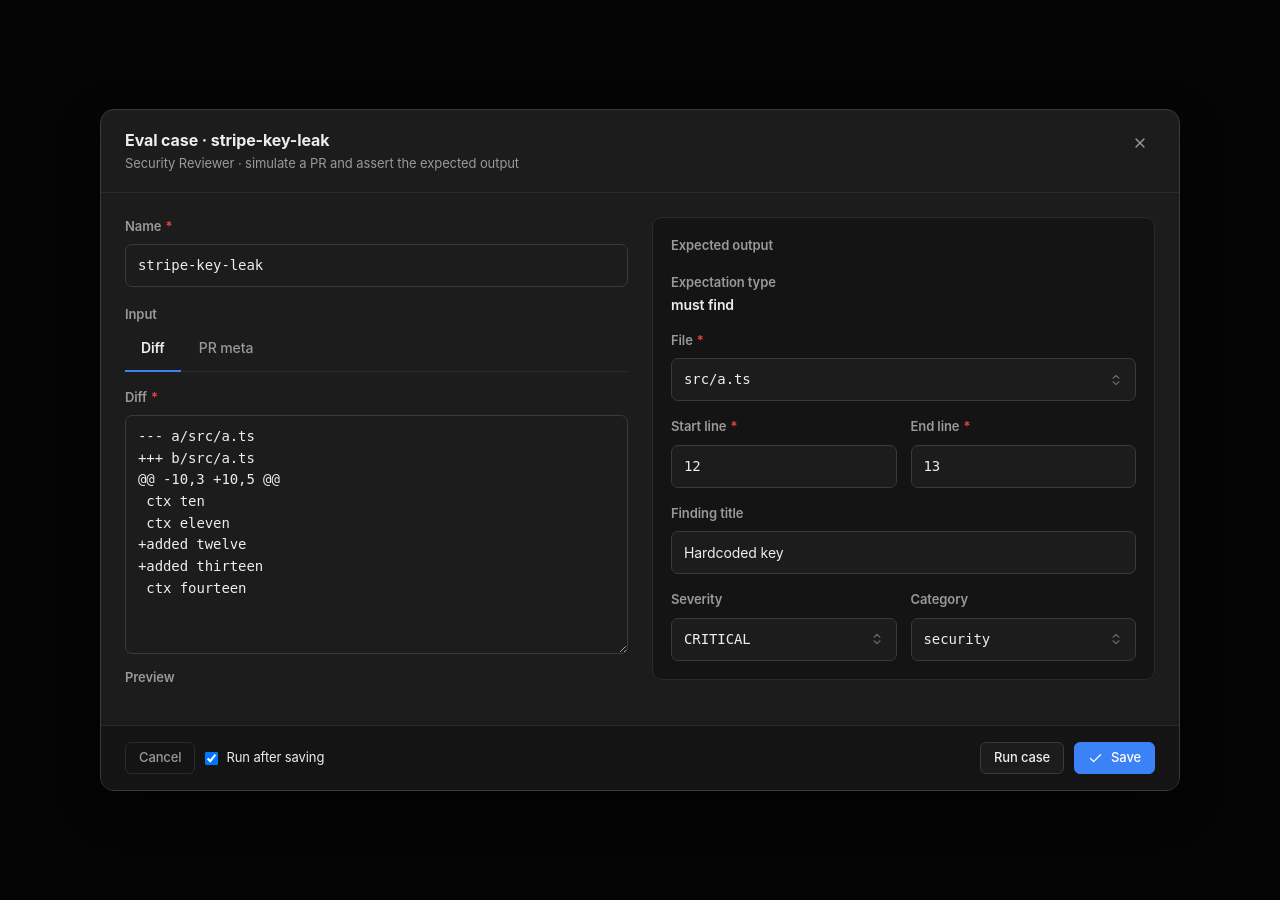
CaseEditorDialog — open › opens an existing case with every field holding its value
The width and height of the screenshot is (1280, 900).
Check: the text "Eval case · stripe-key-leak" is shown, box [125,130,330,150]
Check: the field labelled "Name*" holds "stripe-key-leak", box [138,255,615,276]
Step 1. Click the button "PR meta" → {"x": 226, "y": 348}, box [183,324,269,372]
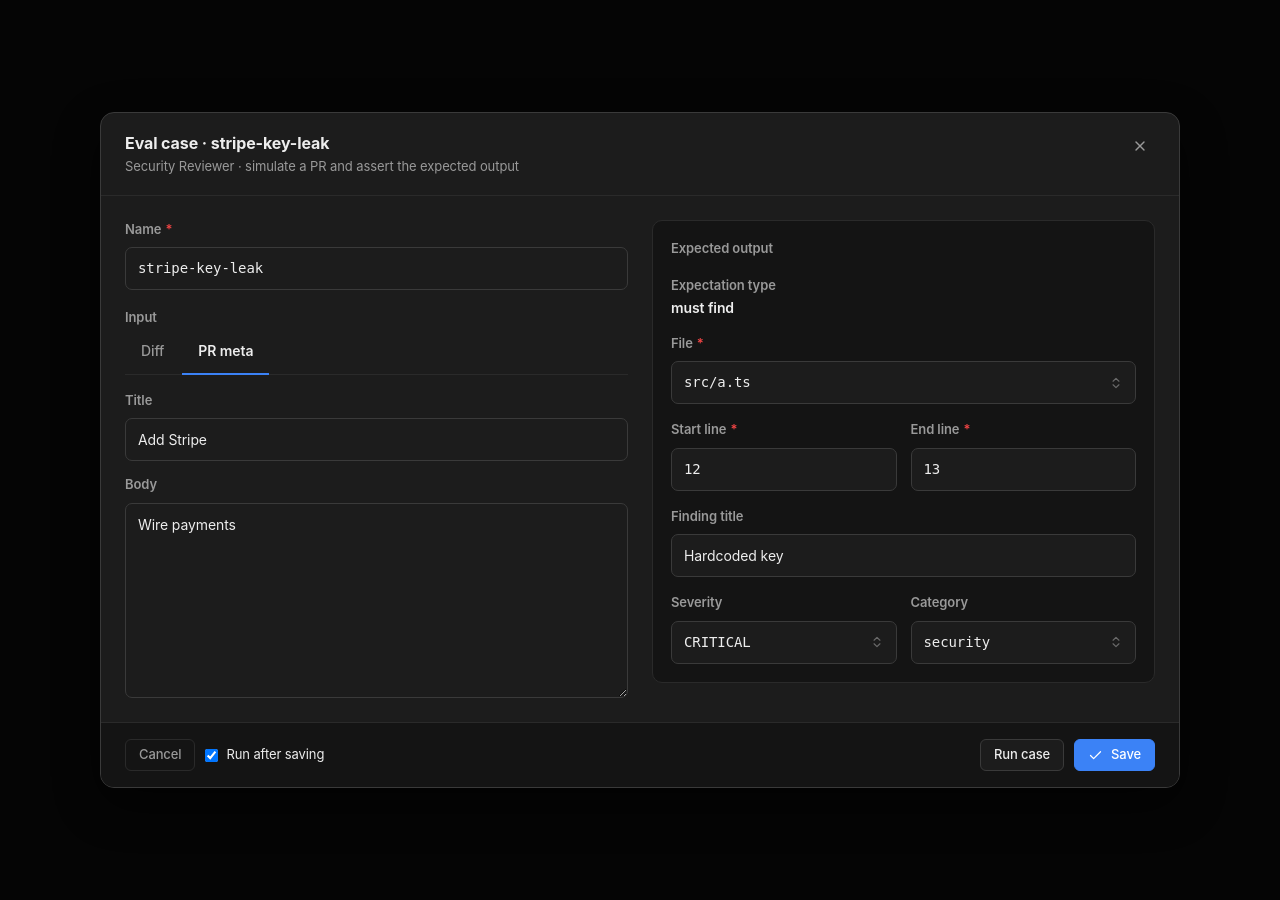
Check: the field labelled "Title" holds "Add Stripe", box [138,429,615,450]
Check: the text box labelled "Body" holds "Wire payments", box [125,503,628,698]
